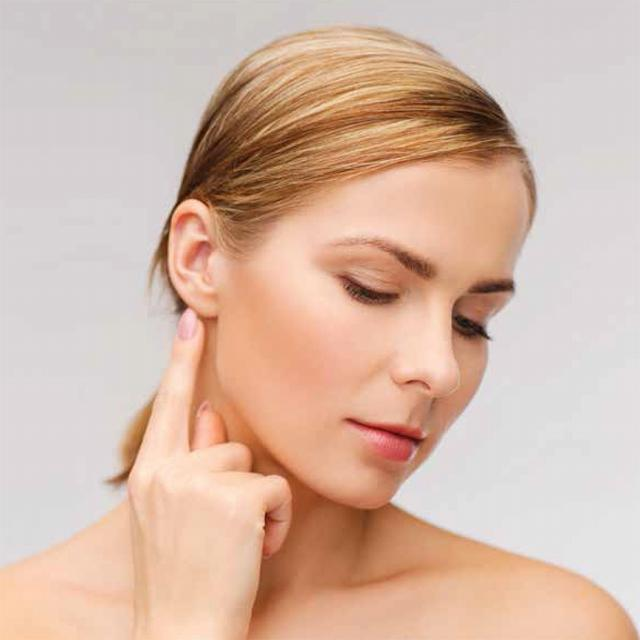earlobe: (167, 200, 221, 318)
